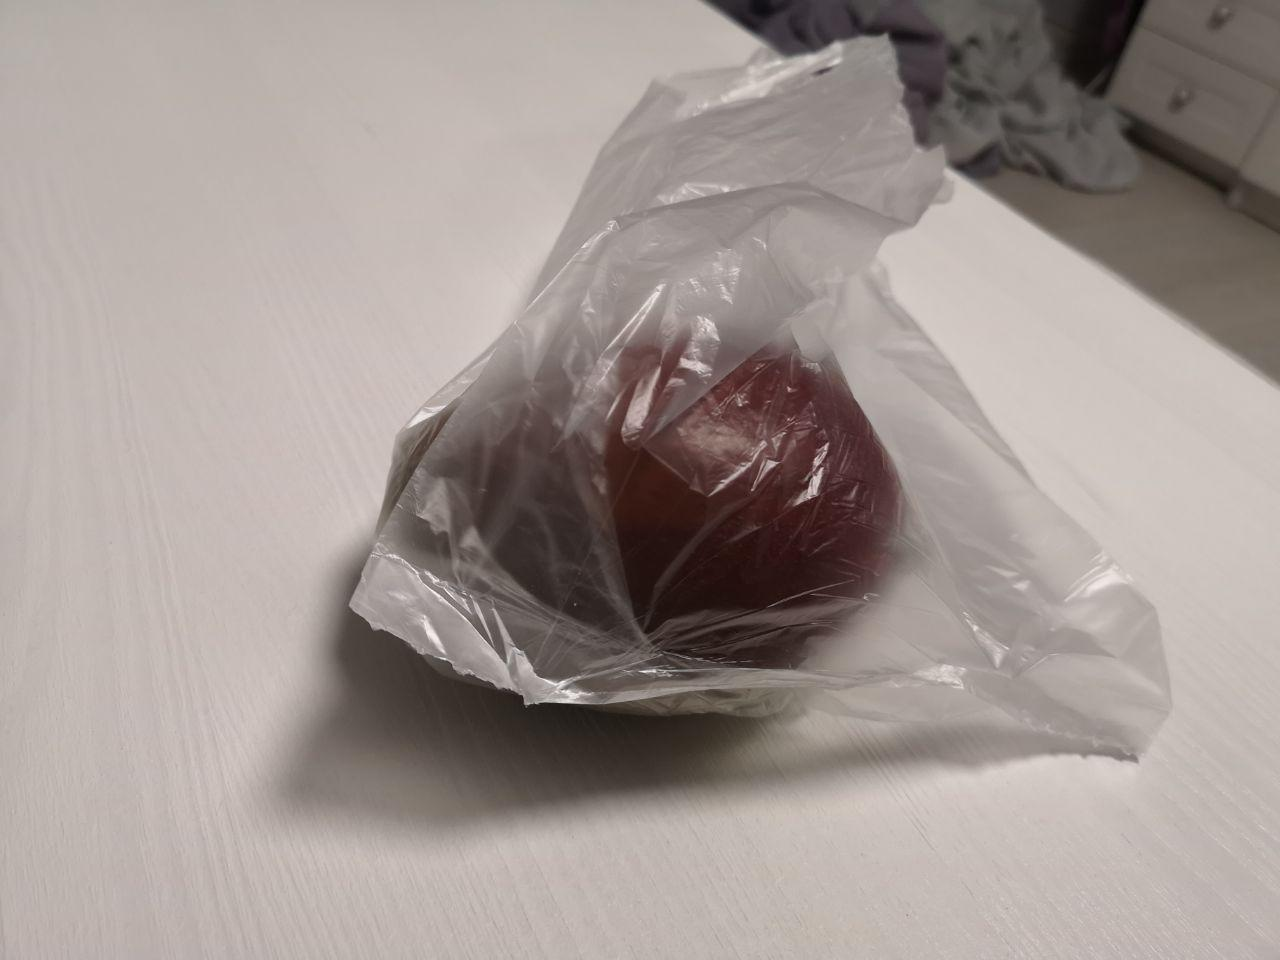mango: (350, 224, 1035, 773)
